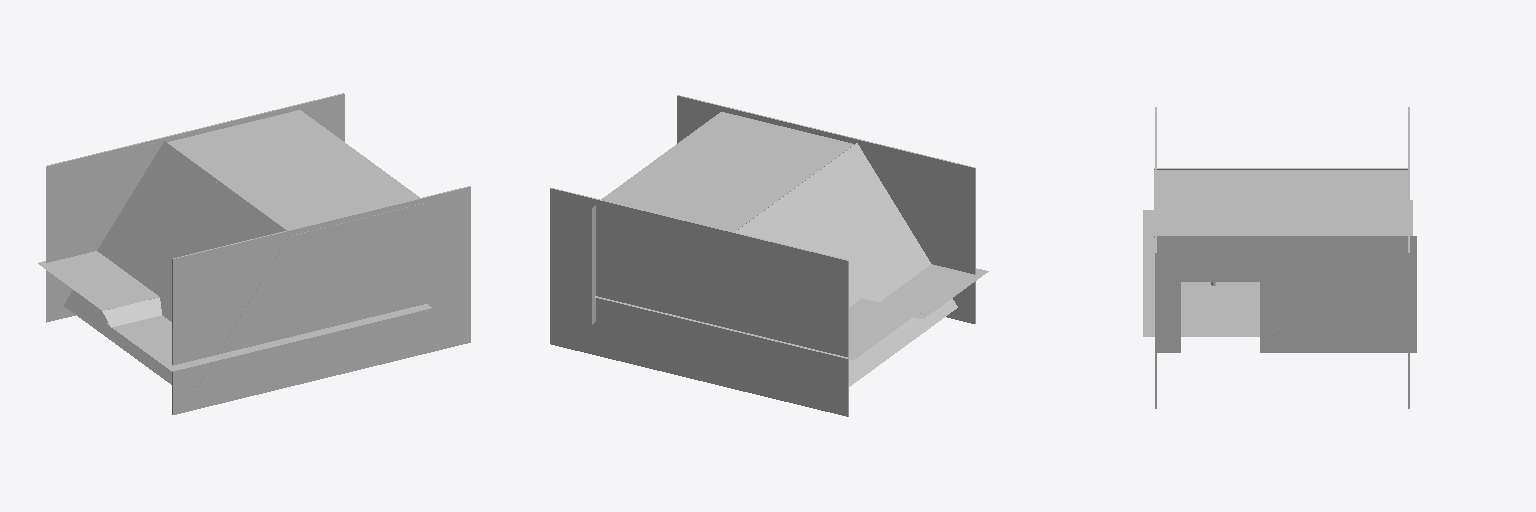
File: SoraJewelBase_Kaii.obj
3 views of the same model, side by side, from view 1: azimuth 30°, elevation 25°; view 2: azimuth 150°, elevation 25°; view 3: azimuth 270°, elevation 25° (orthographic).
Visible parts, largest first — view 1: pCube6, pCube1, pCube4, pCube5, pPlane5, pPlane9, pPlane8, pPlane10; view 2: pCube5, pCube4, pCube1, pCube6, pPlane9, pPlane5; view 3: pCube1, pPlane2, pPlane3, pPlane10, pPlane9, pCube5, pCube6.
Boxes of the visible parts, <box> form: pCube6: <box>172,186,470,414</box>; pCube1: <box>167,110,426,237</box>; pCube4: <box>64,141,292,398</box>; pCube5: <box>46,93,344,322</box>; pPlane5: <box>38,251,158,310</box>; pPlane9: <box>107,315,301,371</box>; pPlane8: <box>102,297,161,327</box>; pPlane10: <box>297,304,431,339</box>; pCube5: <box>550,188,848,416</box>; pCube4: <box>735,143,957,386</box>; pCube1: <box>601,112,853,231</box>; pCube6: <box>677,95,975,323</box>; pPlane9: <box>879,264,988,318</box>; pPlane5: <box>724,299,919,360</box>; pCube1: <box>1154,170,1407,237</box>; pPlane2: <box>1286,236,1416,352</box>; pPlane3: <box>1157,238,1286,352</box>; pPlane10: <box>1143,274,1259,336</box>; pPlane9: <box>1143,210,1154,273</box>; pCube5: <box>1408,107,1409,408</box>; pCube6: <box>1155,107,1156,408</box>.
Size of the model in its own units: 16.4 by 8 by 12.75.